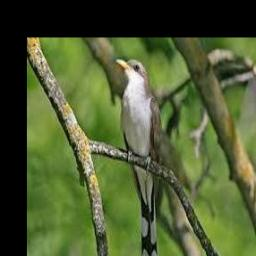Cuckoo: (115, 58, 164, 256)
